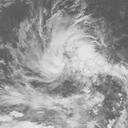cyclone: (40, 31, 110, 109)
